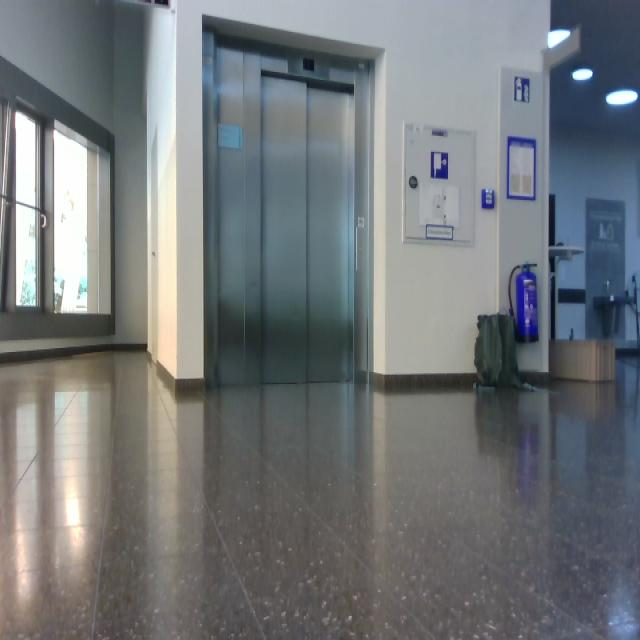door: (205, 33, 375, 388), (260, 70, 355, 385)
fire extinguisher: (508, 262, 539, 344)
light bulb: (605, 89, 639, 106), (547, 29, 571, 49), (572, 68, 594, 82), (41, 213, 47, 228)
tiled floor: (2, 347, 639, 639)
